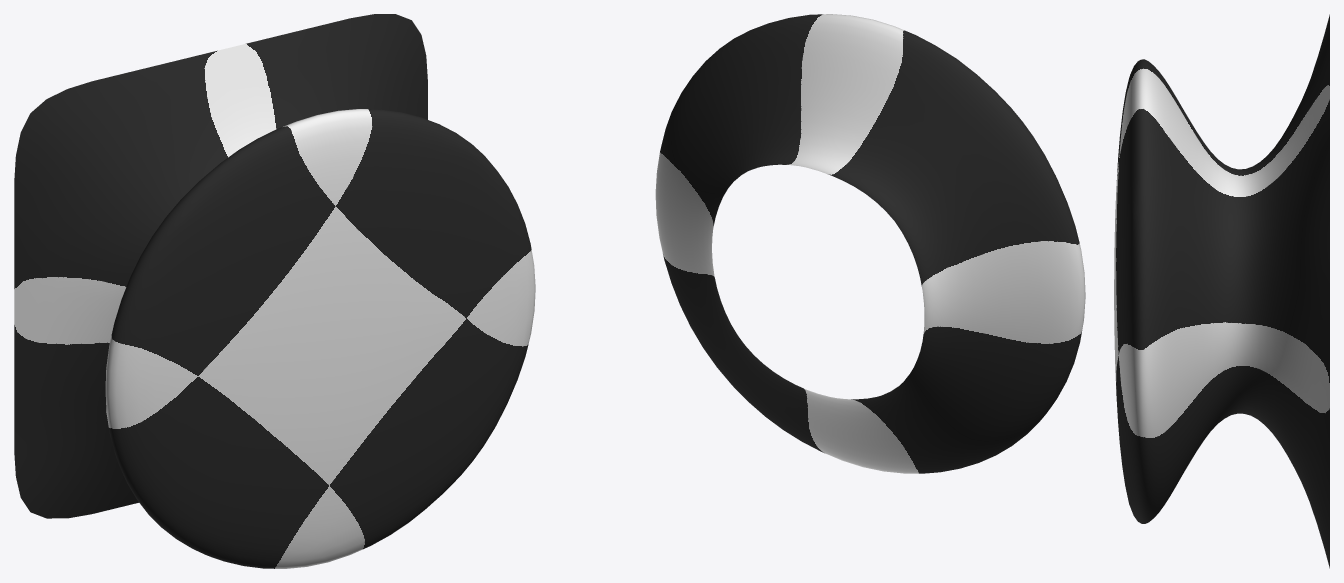
File: cgalref_mushroom_heat_result.glb
The picture shows the model from 3 angles, left to right: view 1: azimuth 30°, elevation 25°; view 2: azimuth 150°, elevation 25°; view 3: azimuth 270°, elevation 25°; orthographic projection. The views are drawn at different scales.
Parts seen in each view (by area): view 1: parameterized_mesh; view 2: parameterized_mesh; view 3: parameterized_mesh.
Boxes of the visible parts, x1,y1,x2,y2 form: parameterized_mesh: [14, 14, 535, 568]; parameterized_mesh: [655, 14, 1085, 473]; parameterized_mesh: [1114, 14, 1329, 568].
Bounding box in the file's own units: 99.98 × 100 × 46.4.
1 material, 1 textured.
